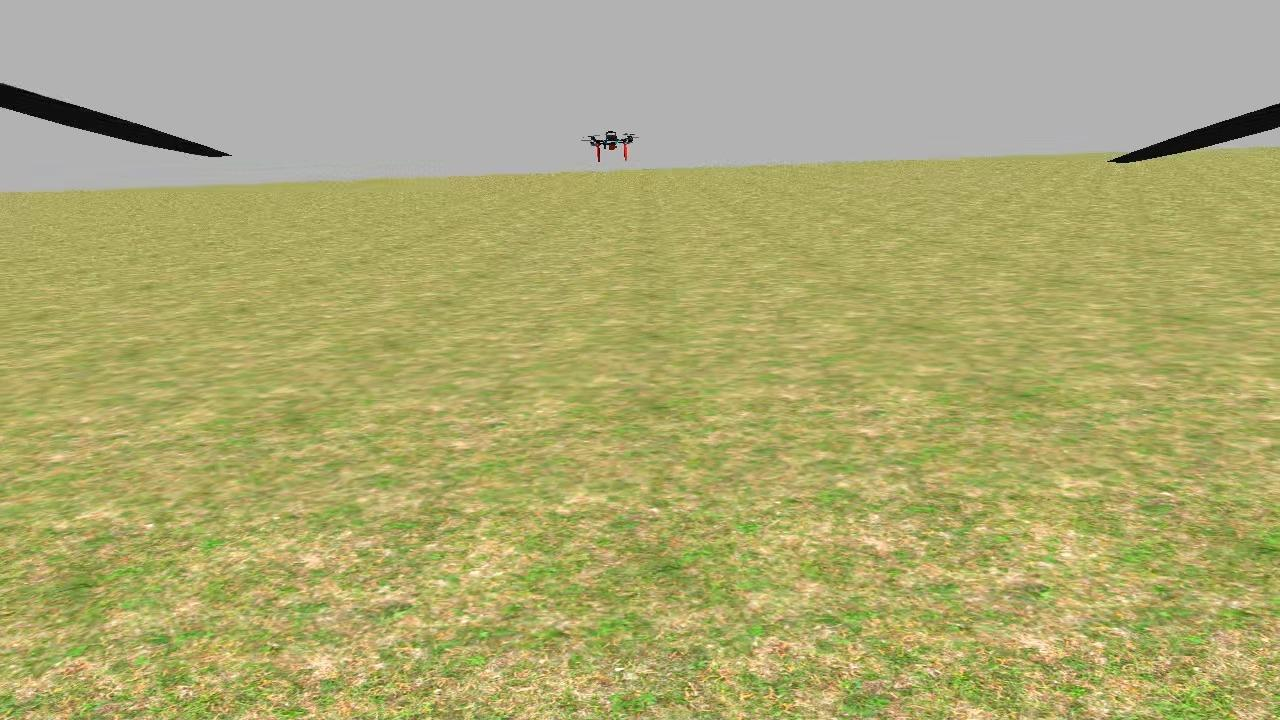UAV: (570, 116, 654, 177)
